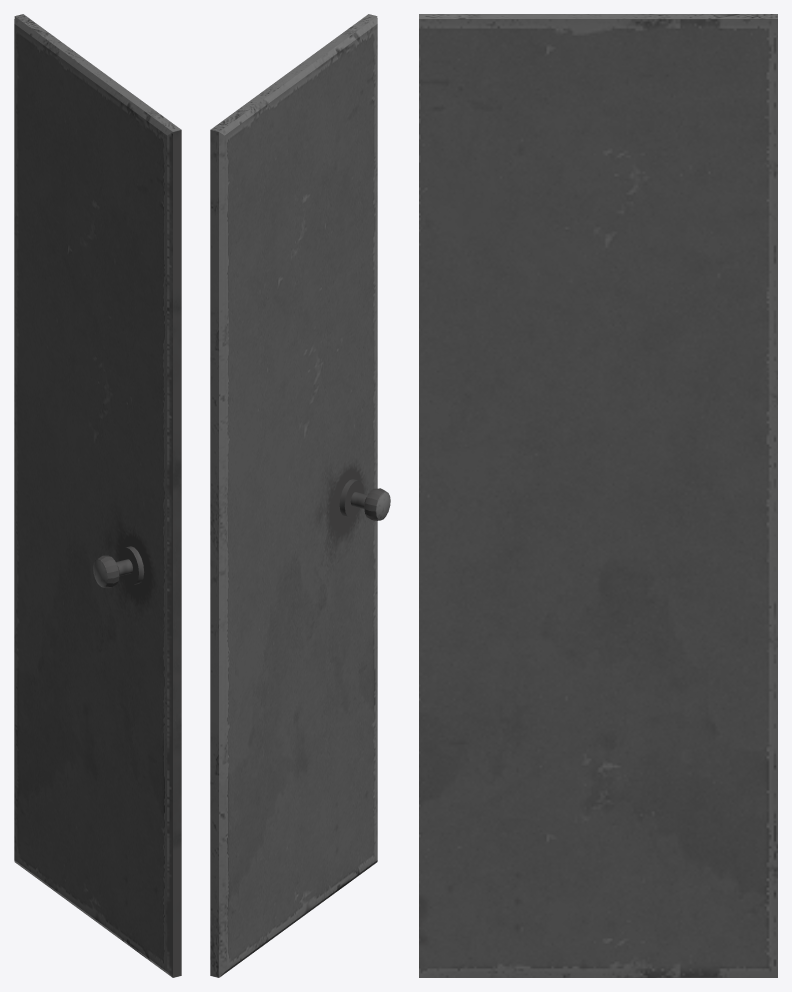
The model's file is Porta delegaciaE.fbx.
3 renders of one model, left to right at view 1: azimuth 30°, elevation 25°; view 2: azimuth 150°, elevation 25°; view 3: azimuth 270°, elevation 25°, orthographic. The views are drawn at different scales.
Parts seen in each view (by area): view 1: Cube.010; view 2: Cube.010; view 3: Cube.010.
Part boxes in pixels (x1,y1,x2,y2): Cube.010: [14, 14, 181, 977]; Cube.010: [210, 14, 390, 977]; Cube.010: [419, 14, 777, 977].
Size of the model in its own units: 13.5 by 216 by 73.35.
